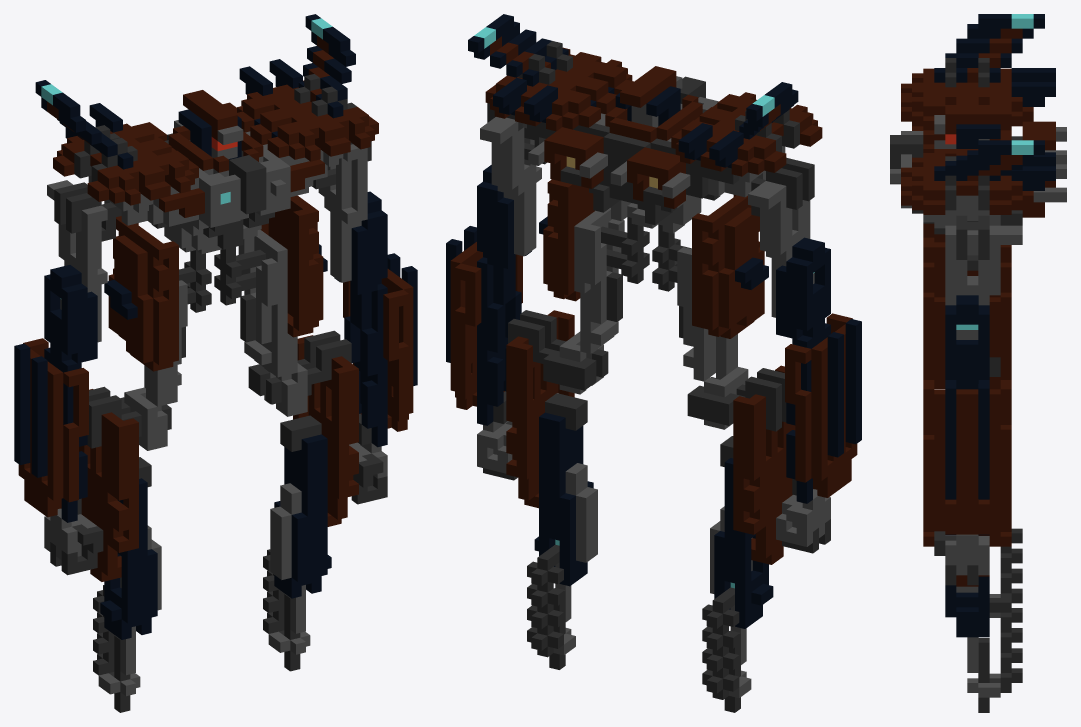
The model's file is FieldFighter.glb.
3 views of the same model, side by side, from view 1: azimuth 30°, elevation 25°; view 2: azimuth 150°, elevation 25°; view 3: azimuth 270°, elevation 25° (orthographic). The views are drawn at different scales.
Parts seen in each view (by area): view 1: Mesh_0; view 2: Mesh_0; view 3: Mesh_0.
Part boxes in pixels (box(x1,y1,x2,y2)): Mesh_0: box(14, 14, 417, 712); Mesh_0: box(446, 14, 861, 712); Mesh_0: box(890, 14, 1066, 712).
Size of the model in its own units: 0.9661 by 1.5 by 0.4068.
